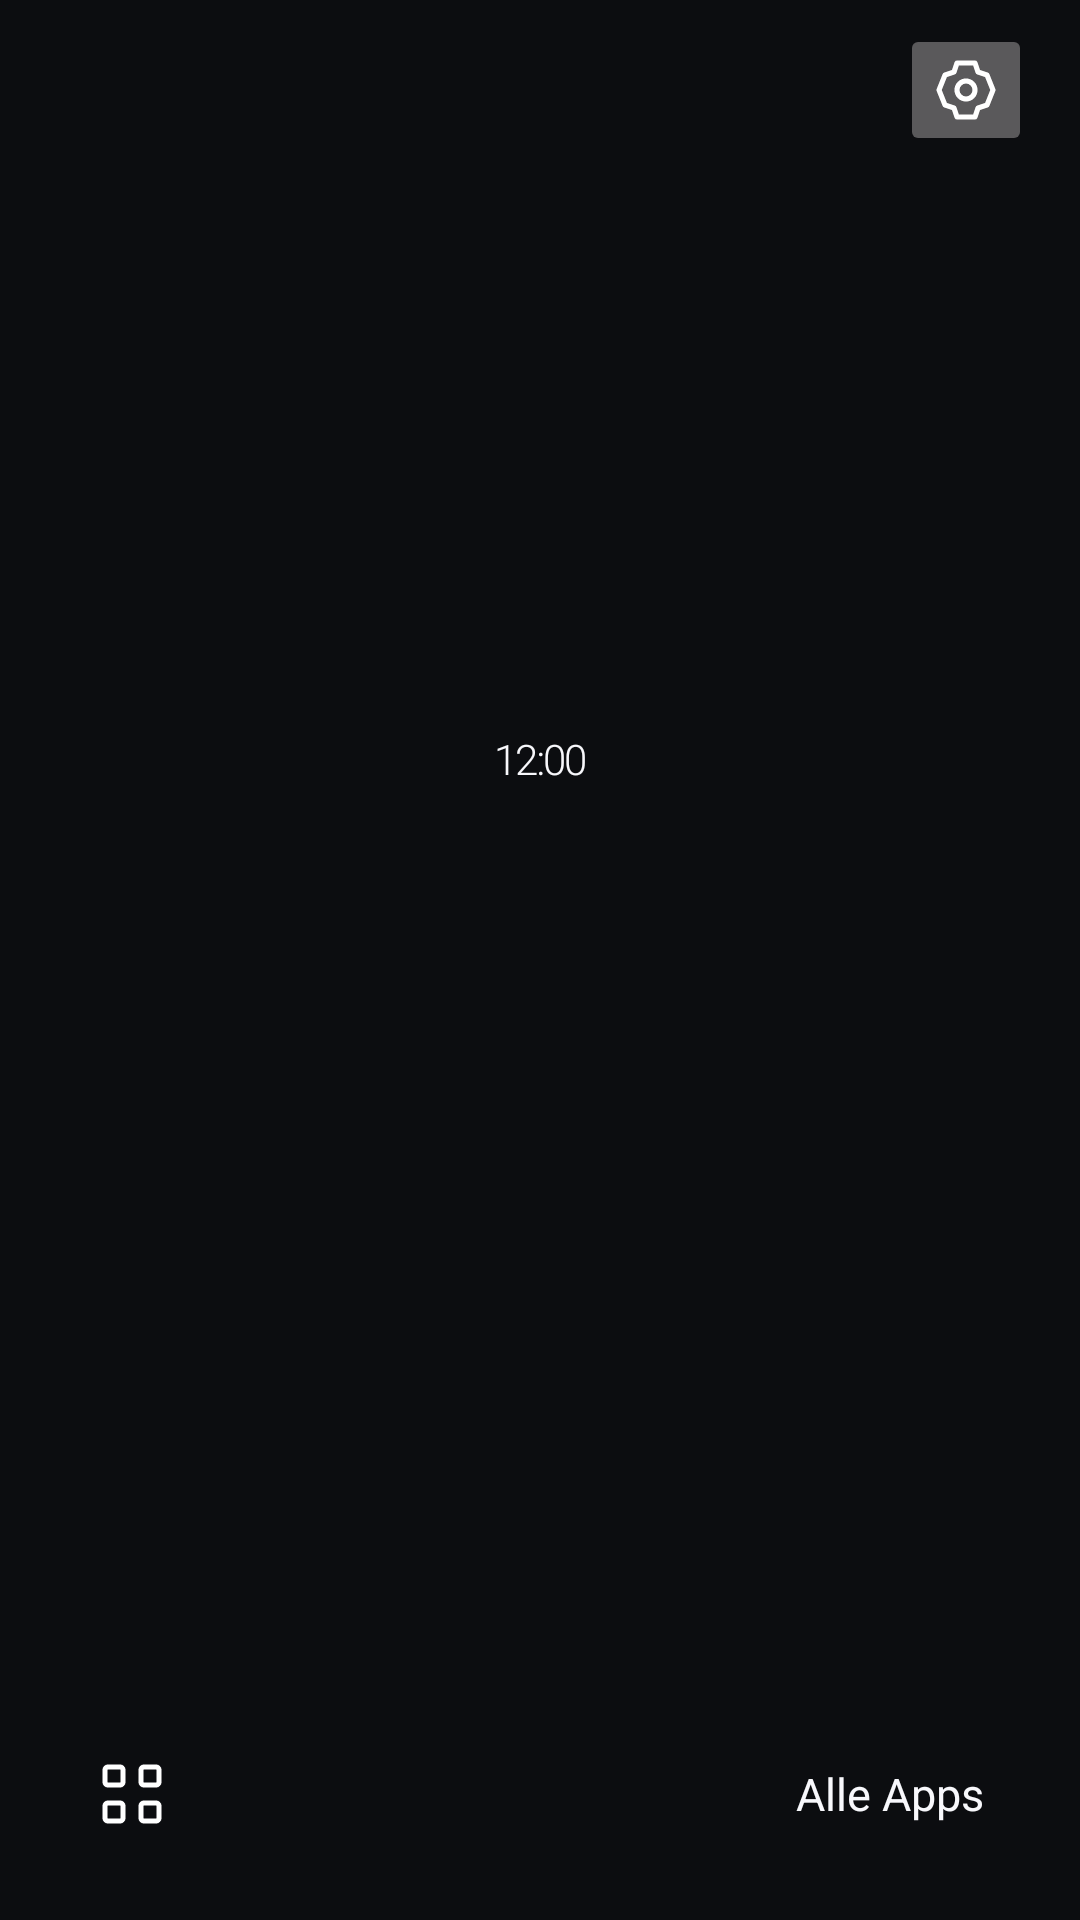

Point at icon controls on the screen. Image size 1080 × 1920, points as (x=x, y=y).
Anpassen: (x=966, y=90)
